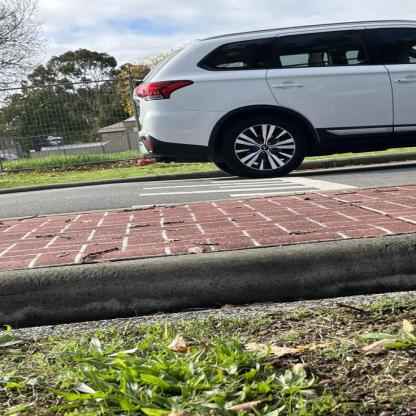Tire: (218, 113, 306, 179)
